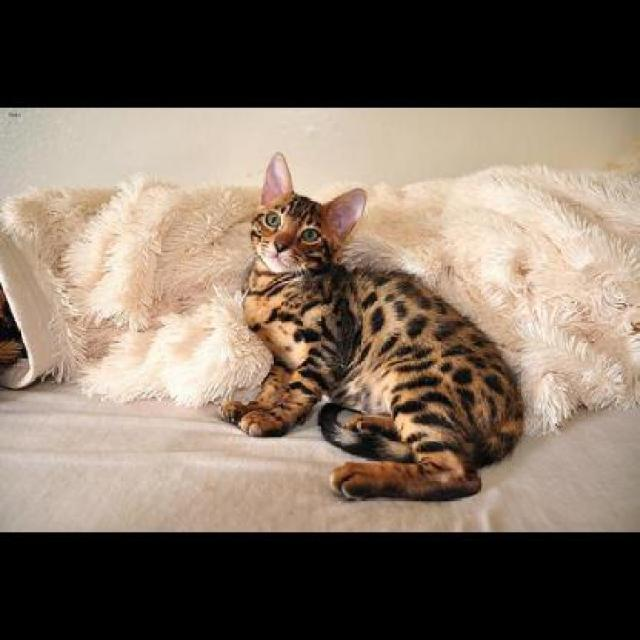unauthorized: (218, 150, 524, 502)
